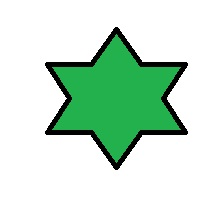star: (45, 27, 189, 172)
